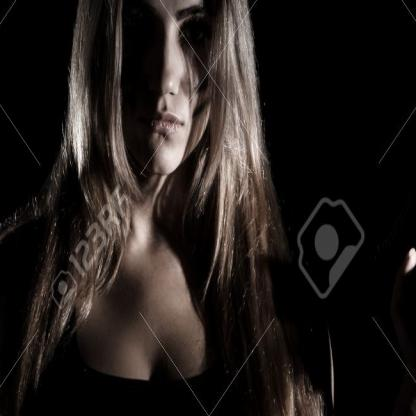gun: (366, 76, 415, 376)
